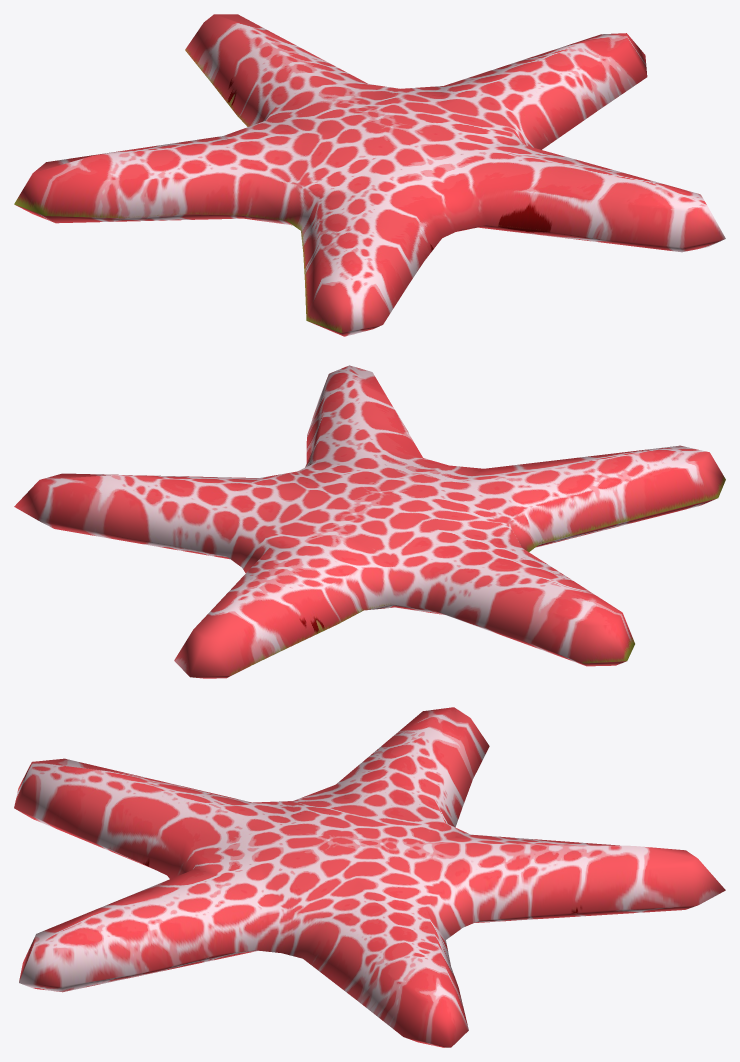
File: estrella marina textura.fbx
3 views of the same model, one above another, from view 1: azimuth 30°, elevation 25°; view 2: azimuth 150°, elevation 25°; view 3: azimuth 270°, elevation 25° (orthographic). The views are drawn at different scales.
Visible parts, largest first — view 1: Estrella; view 2: Estrella; view 3: Estrella.
Boxes of the visible parts, bbox=[...] form: Estrella: bbox=[14, 14, 725, 336]; Estrella: bbox=[14, 365, 725, 678]; Estrella: bbox=[14, 707, 725, 1047].
Size of the model in its own units: 38.29 by 3.51 by 36.33.
1 material, 1 textured.
